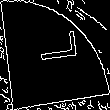L_W: (30, 36, 80, 74)
